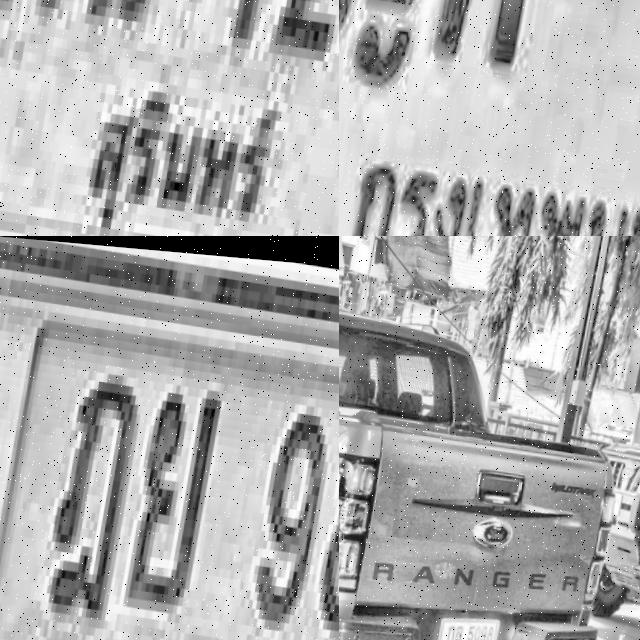license-plate: (0, 236, 339, 640), (0, 0, 339, 236), (339, 0, 640, 236), (443, 602, 512, 640)
